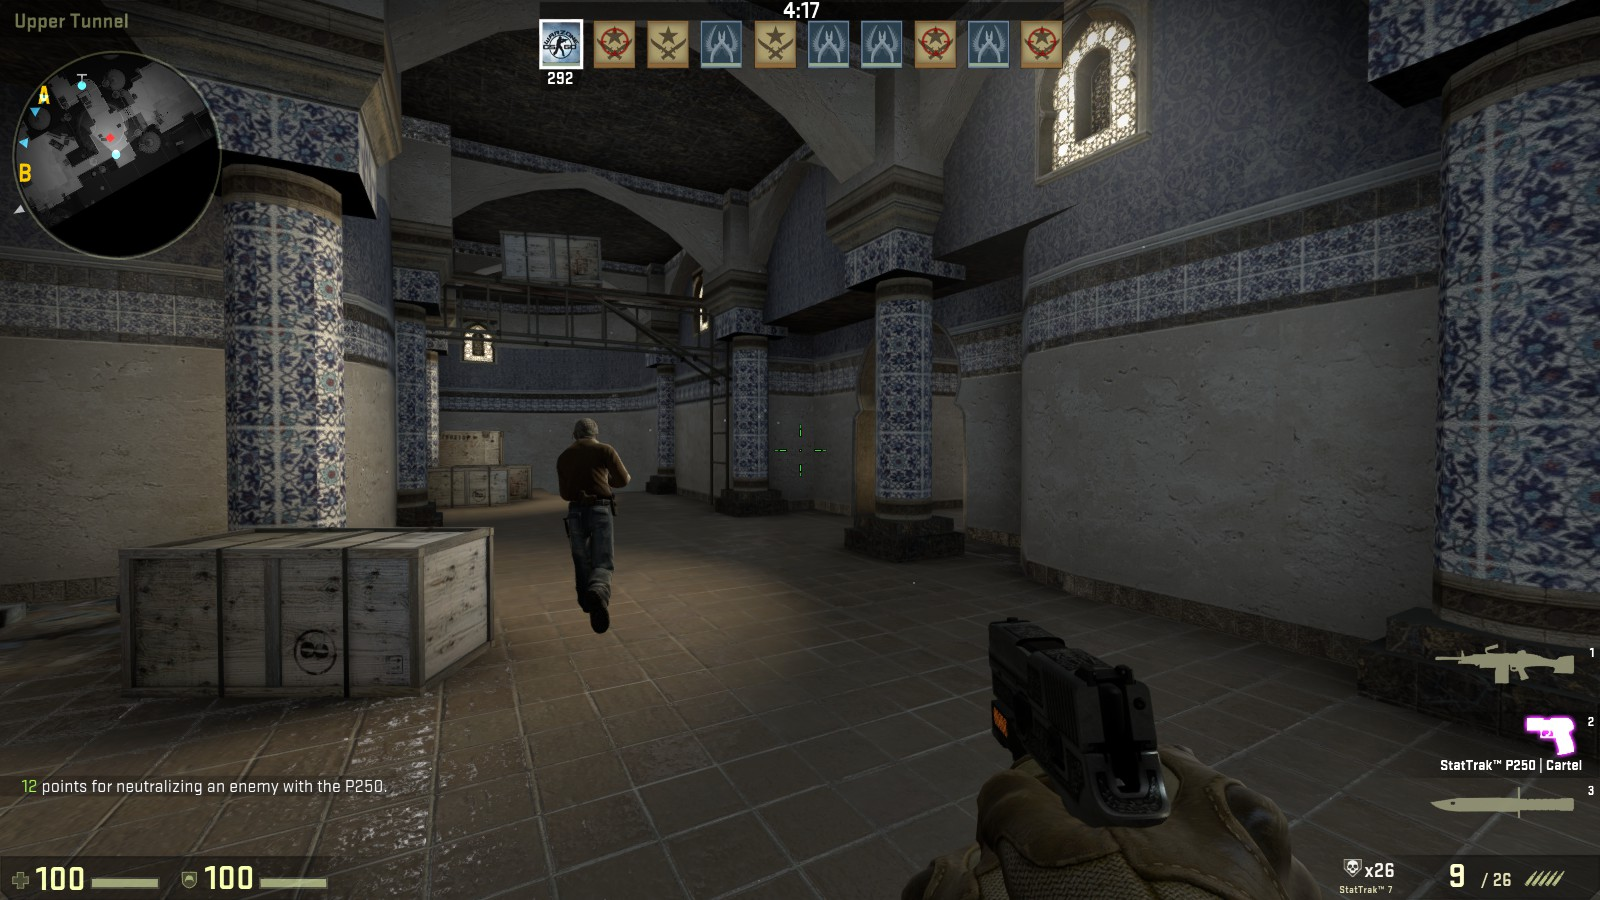t: (562, 415, 618, 619)
th: (569, 412, 605, 446)
